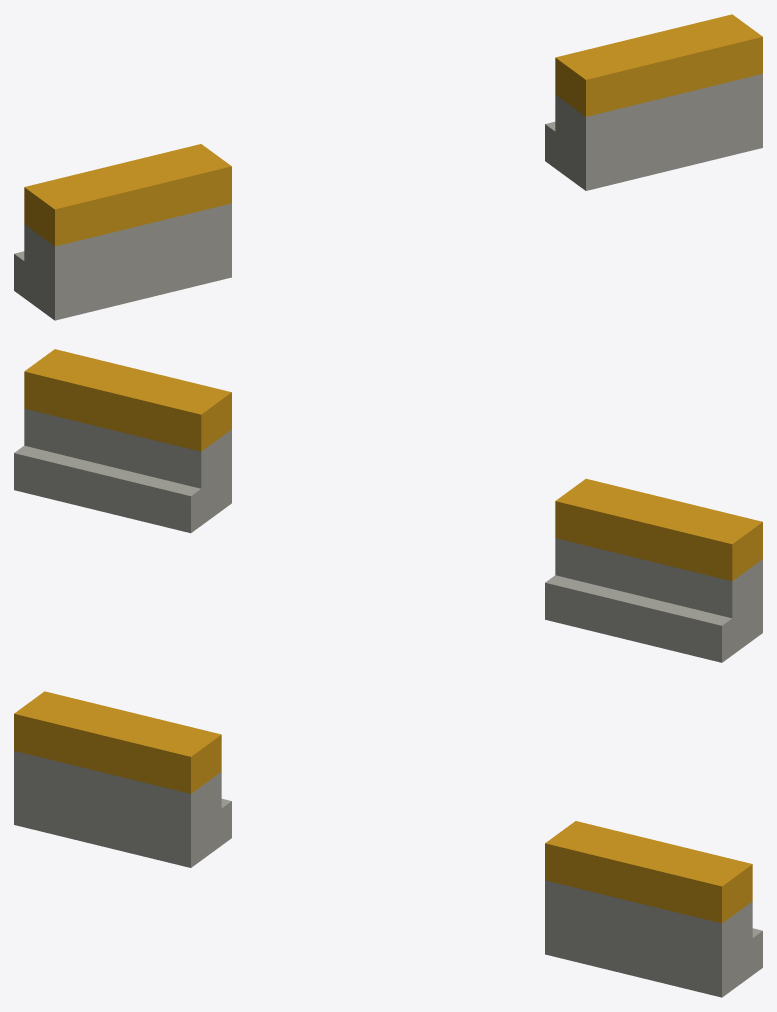
File: ws_door_low.glb
3 renders of one model, top to bottom at view 1: azimuth 30°, elevation 25°; view 2: azimuth 150°, elevation 25°; view 3: azimuth 330°, elevation 25°, orthographic.
Visible parts, largest first — view 1: wall; view 2: wall; view 3: wall.
Part boxes in pixels (left/top/right/bottom): wall: left=14, top=14, right=762, bottom=320; wall: left=14, top=349, right=762, bottom=662; wall: left=14, top=691, right=762, bottom=997.
Size of the model in its own units: 4 by 0.6 by 0.4.
